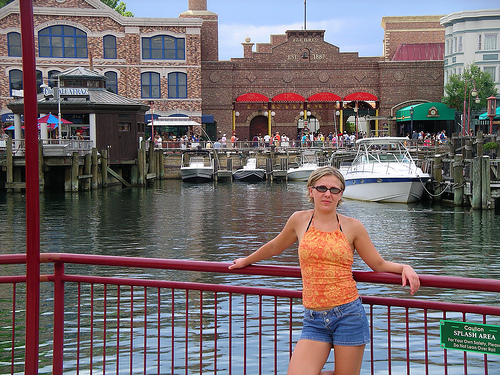without_mask: (309, 169, 346, 217)
